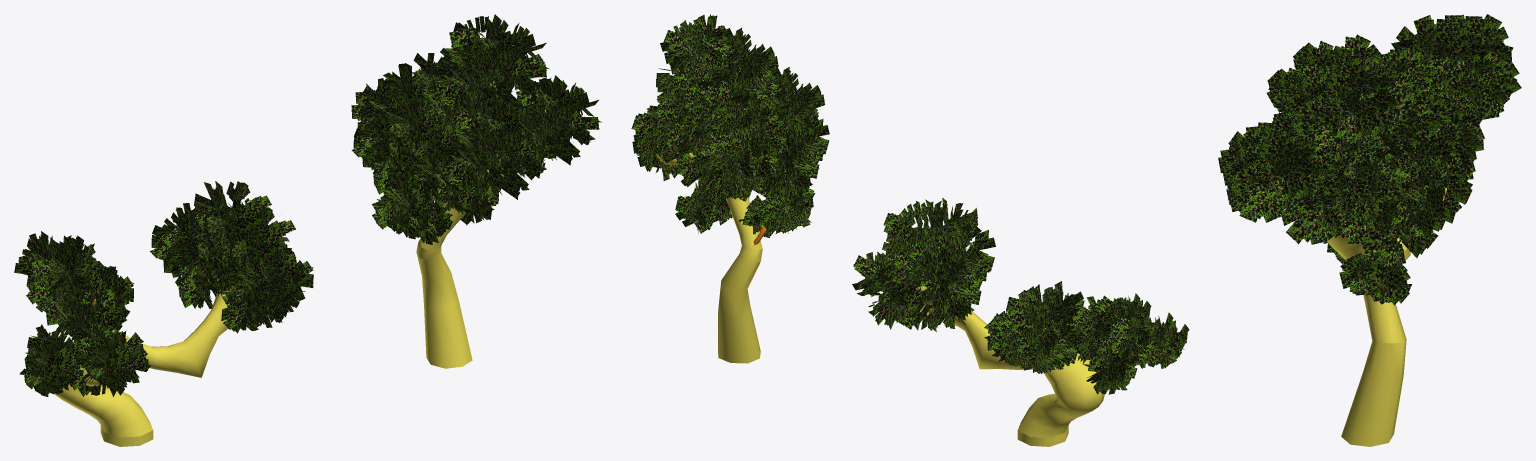
The model's file is 6_Arboles_Particulas_Multicolor_UV_Chica.fbx.
3 renders of one model, left to right at view 1: azimuth 30°, elevation 25°; view 2: azimuth 150°, elevation 25°; view 3: azimuth 270°, elevation 25°, orthographic. The views are drawn at different scales.
Parts seen in each view (by area): view 1: 100_Verde_Tronco2.004; view 2: 100_Verde_Tronco2.004; view 3: 100_Verde_Tronco2.004.
Boxes of the visible parts, x1,y1,x2,y2 form: 100_Verde_Tronco2.004: (14, 14, 601, 446); 100_Verde_Tronco2.004: (631, 14, 1189, 446); 100_Verde_Tronco2.004: (1218, 14, 1521, 446).
Size of the model in its own units: 1597 by 944 by 645.
